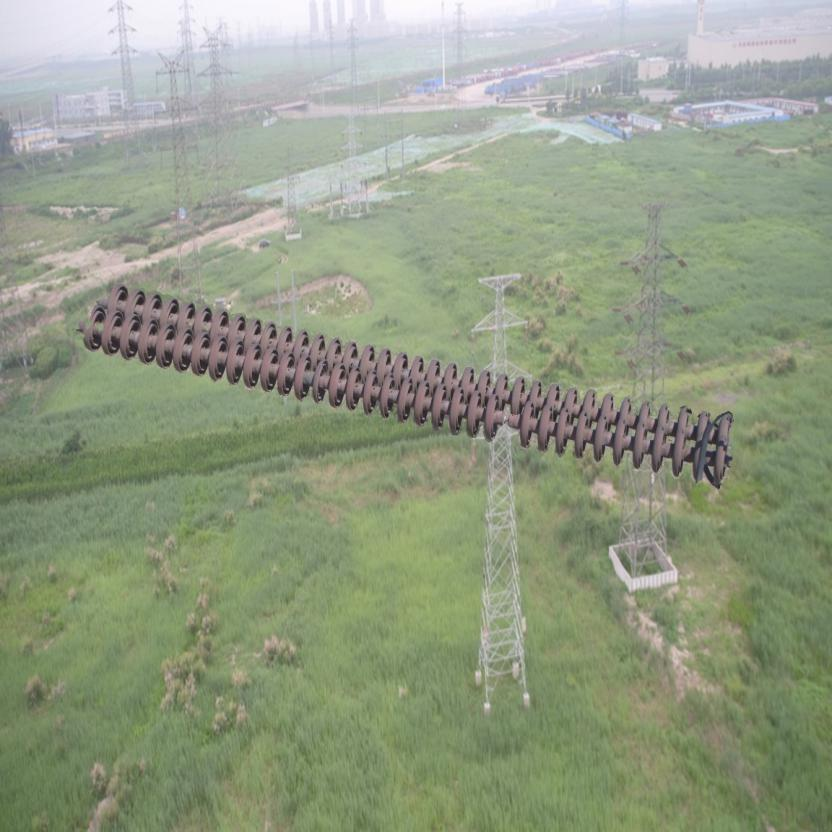defect: (478, 396, 537, 448)
